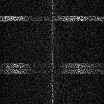wifi: (1, 15, 104, 21), (1, 62, 104, 68), (1, 68, 104, 74)
